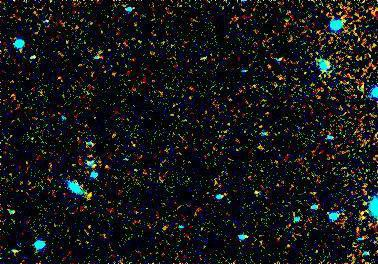star: (74, 180, 104, 210)
